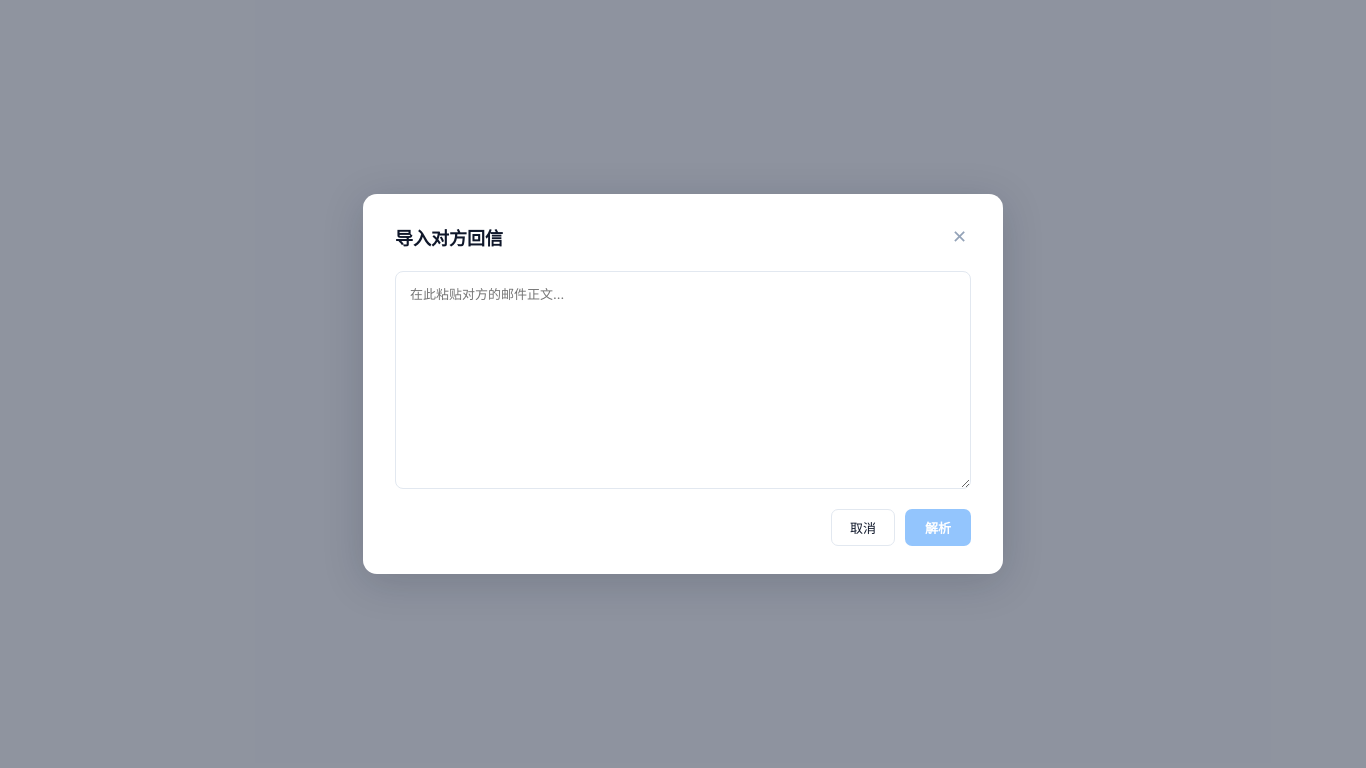
it: <ImportReplyModal /> › falls back to editable form when parse fails
The width and height of the screenshot is (1366, 768).
Type "some reply content" into the text box with placeholder "在此粘贴对方的邮件正文…". click: {"x": 683, "y": 380}
box: left=395, top=271, right=971, bottom=489
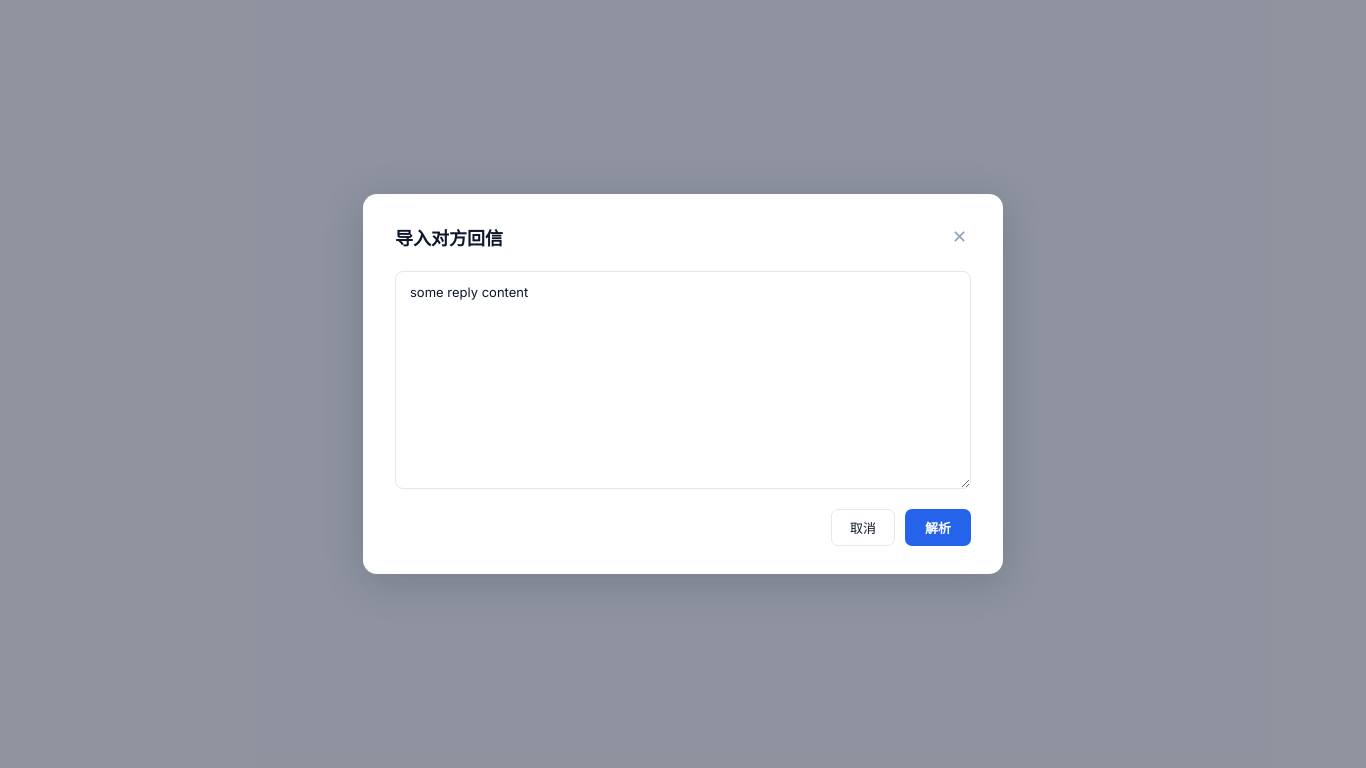
Click the button "解析". click: {"x": 938, "y": 528}
box: left=905, top=509, right=971, bottom=546
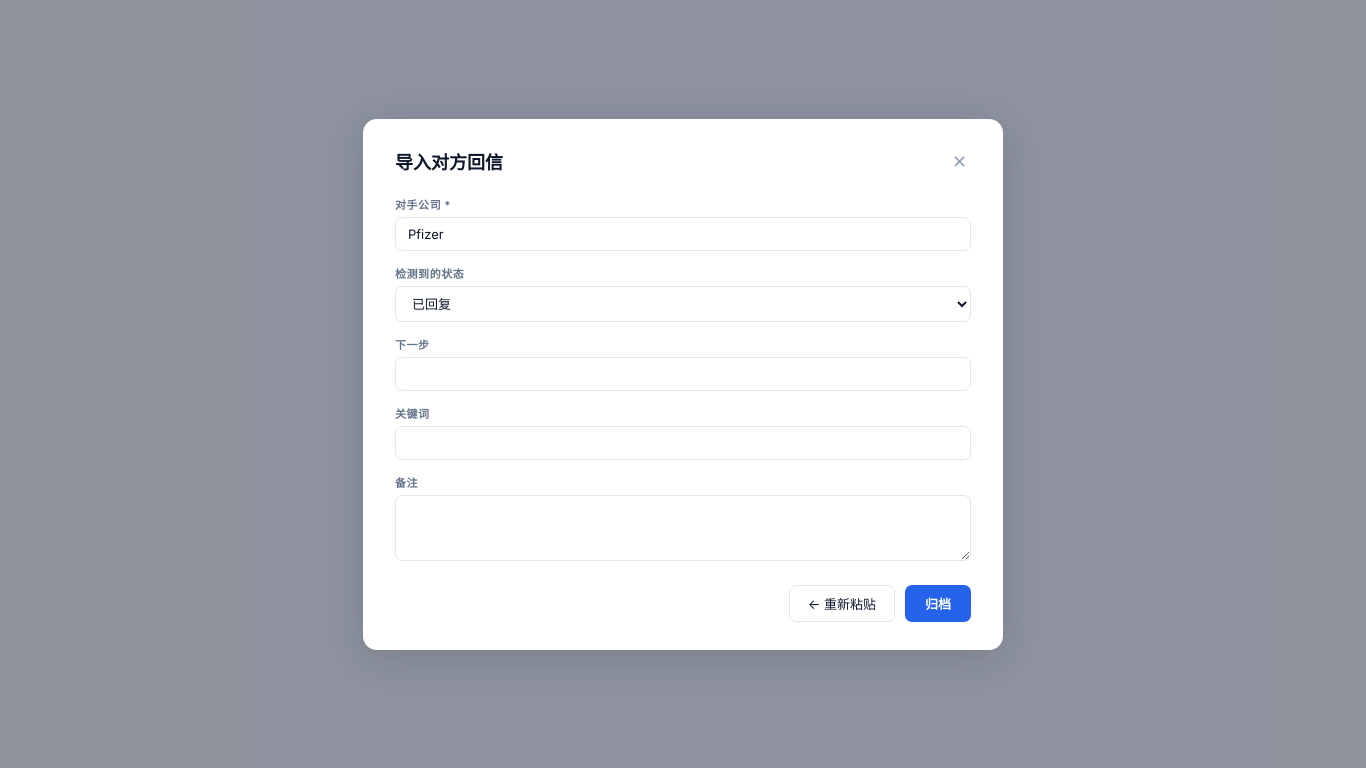
Check: the field showing "Pfizer" below "对手公司 *" is shown, box left=395, top=216, right=971, bottom=250
Check: the button "归档" is shown, box left=905, top=584, right=971, bottom=622
